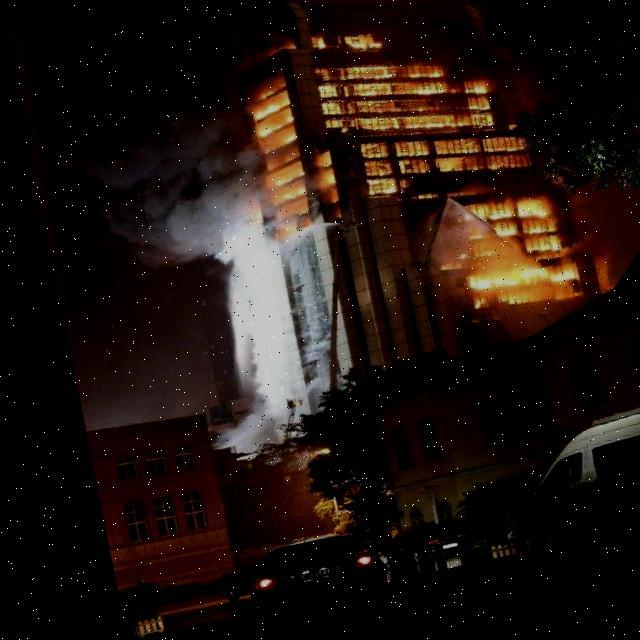Fire: (231, 0, 603, 374)
